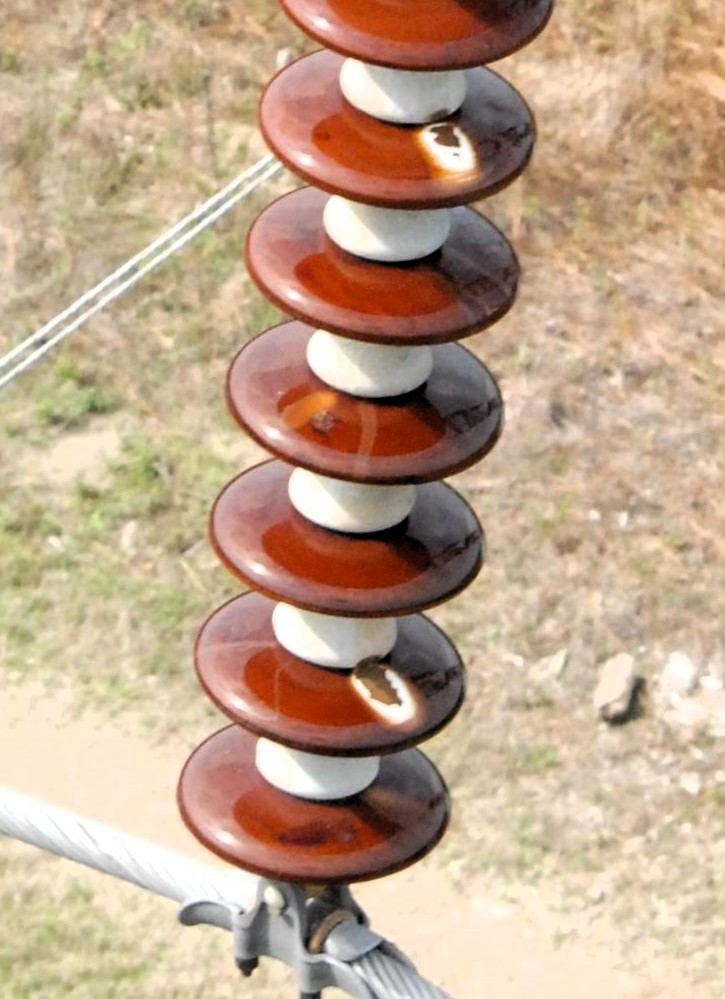Insulator flashover: (187, 586, 480, 761), (253, 44, 543, 214)
